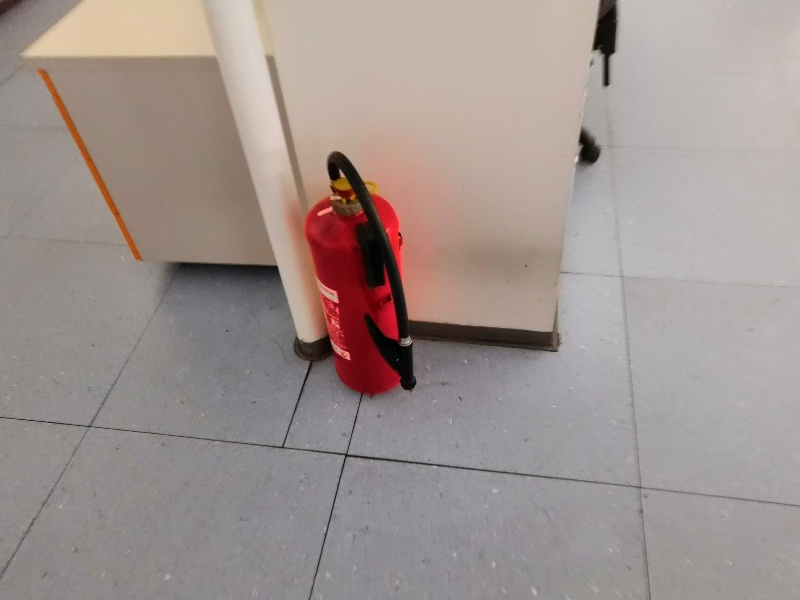vataparat: (303, 152, 417, 396)
